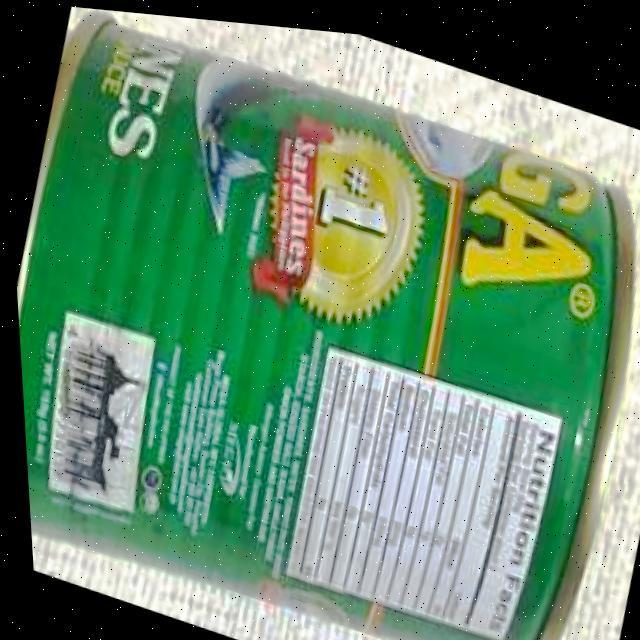Lata: (16, 22, 640, 640)
